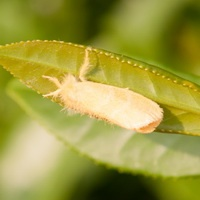insect: (42, 49, 162, 132)
